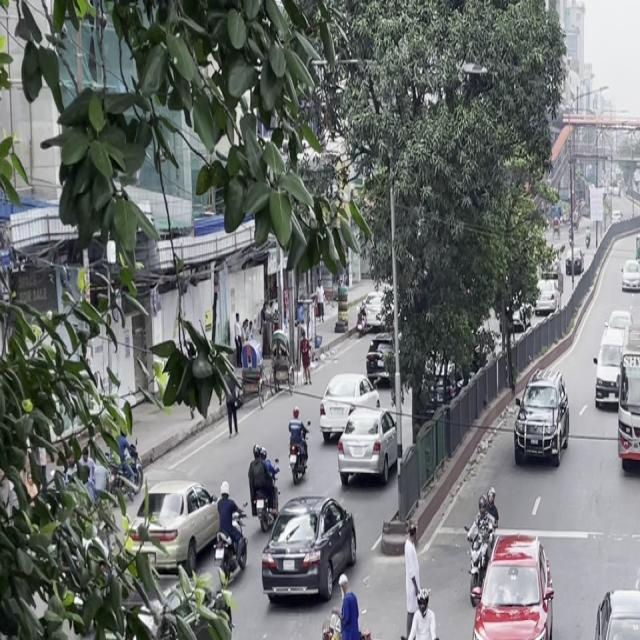bicycle: (303, 579, 396, 640)
bus: (612, 362, 640, 488)
car: (257, 487, 359, 612), (466, 520, 561, 640), (125, 468, 221, 576), (334, 395, 404, 498), (509, 372, 572, 476), (584, 572, 640, 640), (590, 328, 627, 413), (617, 258, 640, 300)
motorbike: (284, 411, 314, 488), (396, 596, 448, 640)
